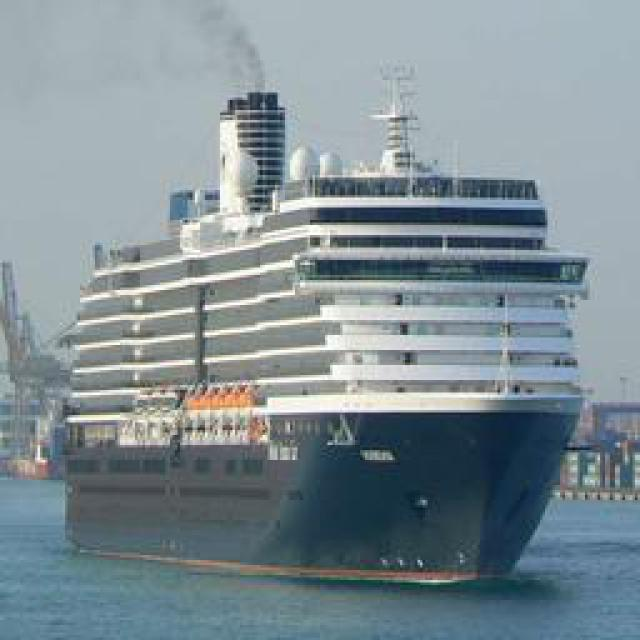Ship: (51, 53, 594, 581)
